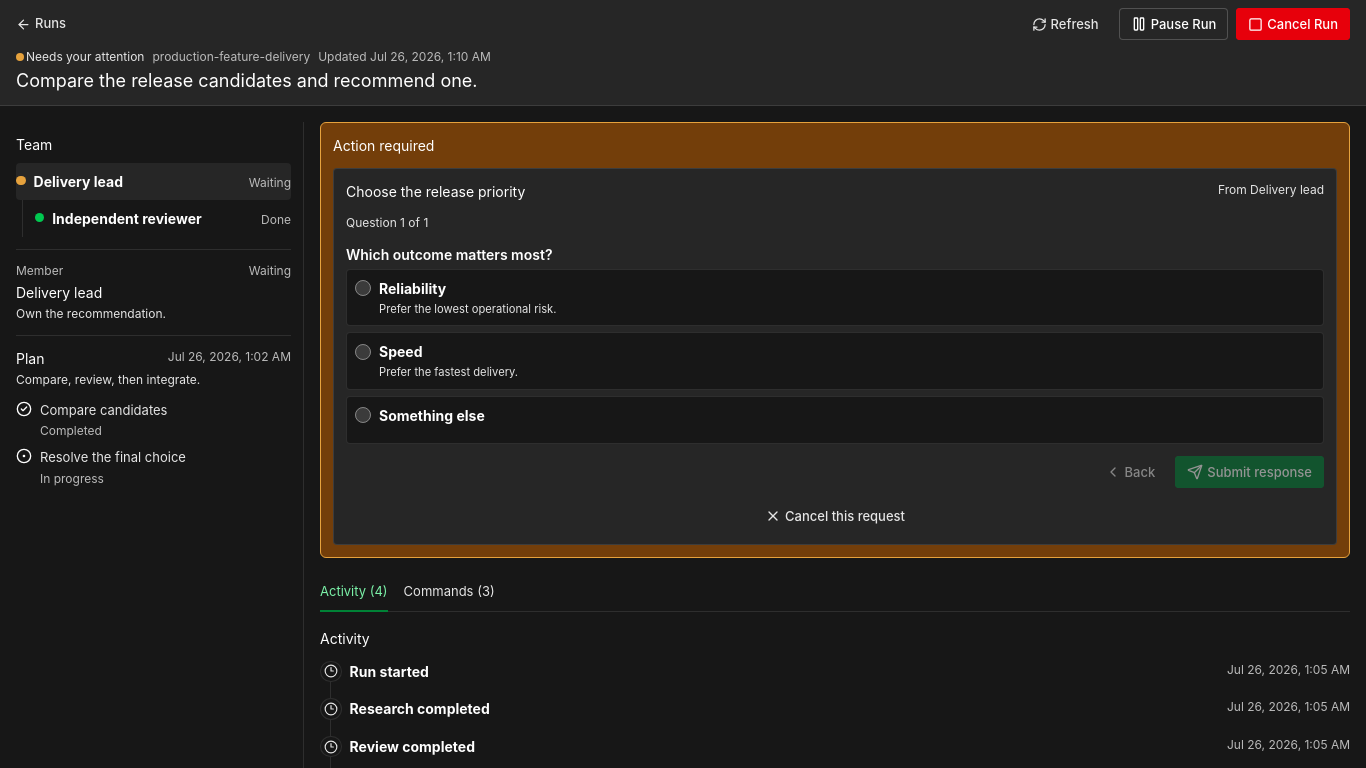
Scenario: Run live controller convergence › loads complete Activity and Command history from bounded previews
Expected: the tab "Activity (4)" is shown, [320, 574, 388, 612]
Click the tab "Commands (3)".
click(449, 593)  # box [404, 574, 495, 612]
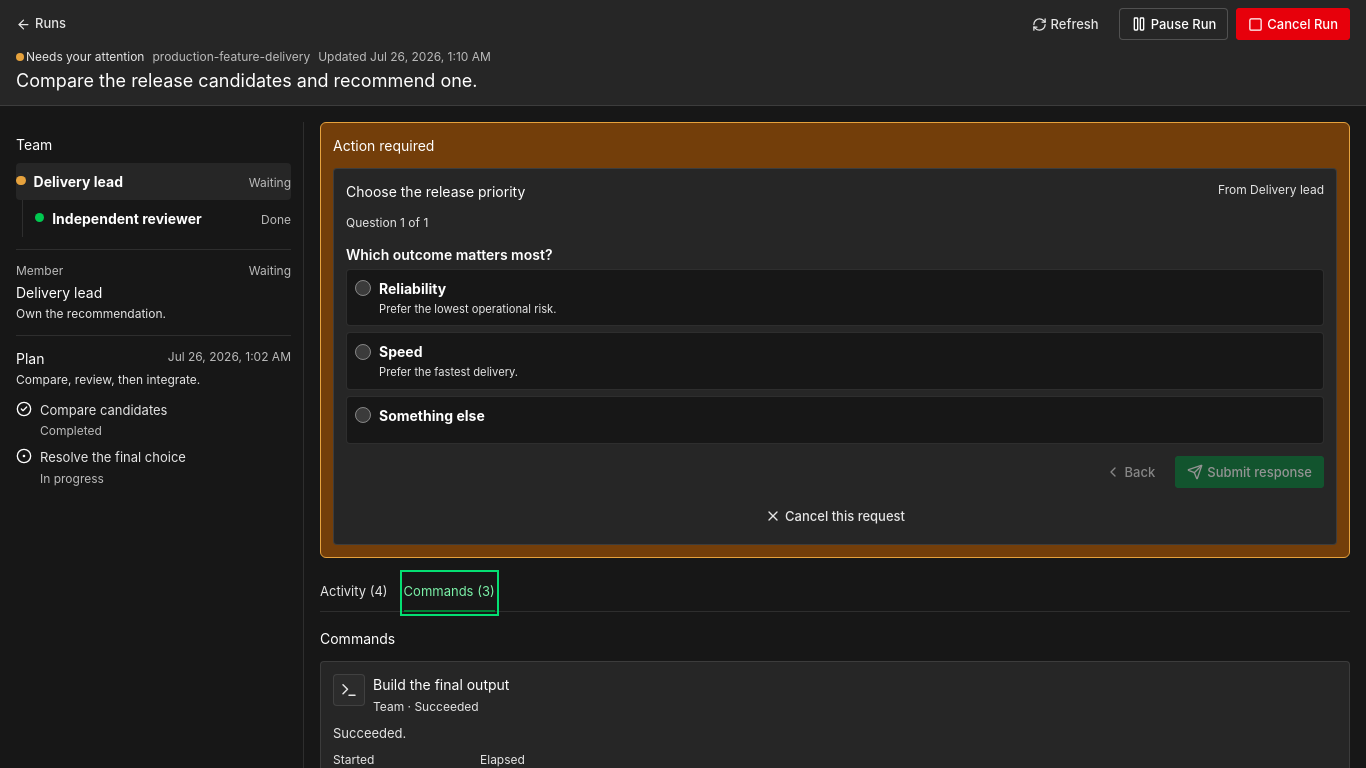
Expected: the heading "Build the final output" is shown, [373, 676, 509, 693]
